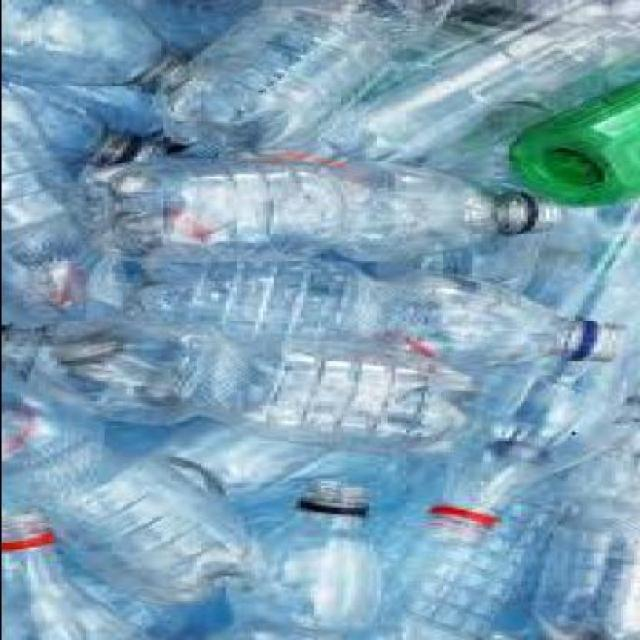PLASTIC: (3, 1, 639, 638), (423, 209, 639, 540), (4, 368, 268, 608), (37, 320, 492, 458), (100, 256, 628, 370), (331, 1, 638, 172), (154, 2, 463, 160), (92, 159, 559, 263), (382, 462, 570, 638), (202, 483, 390, 639), (531, 398, 638, 640), (4, 90, 99, 327), (3, 512, 155, 638), (3, 2, 195, 95), (4, 70, 173, 175), (152, 414, 346, 500), (514, 80, 638, 211), (4, 74, 198, 148), (121, 2, 272, 70)
